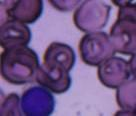L: (20, 85, 55, 116)
